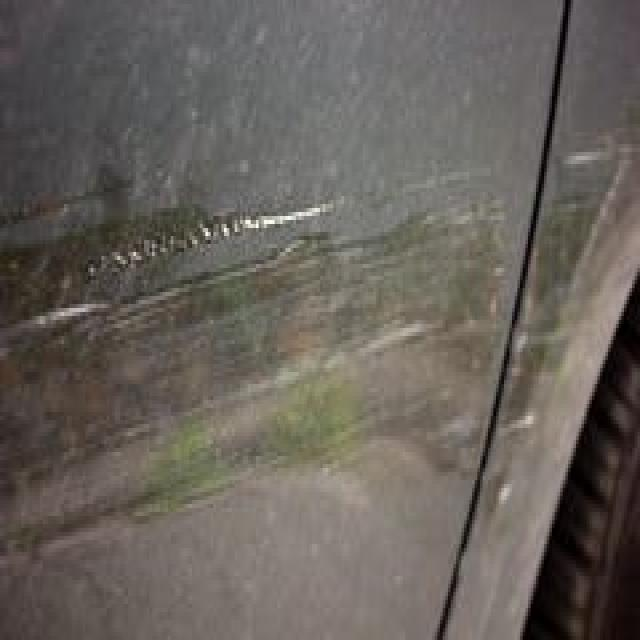scratch: (0, 136, 640, 537)
